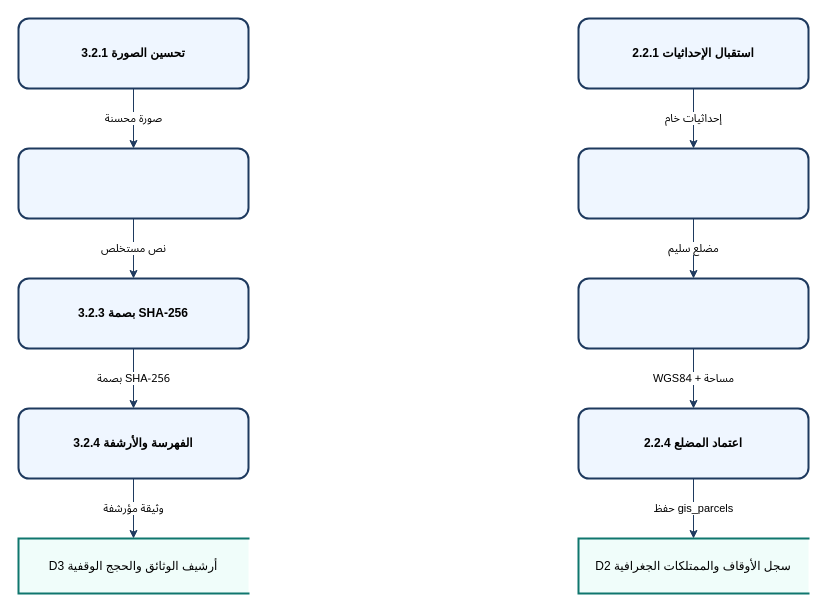
This 826x611 diagram has some shape labels left out. The centre of each missing label's shape, as x and y in pixels:
2.2.2 التحقق الطوبولوجي: (x=693, y=183)
2.2.3 توحيد SRID 4326: (x=693, y=313)
3.2.2 استخلاص OCR: (x=133, y=183)
